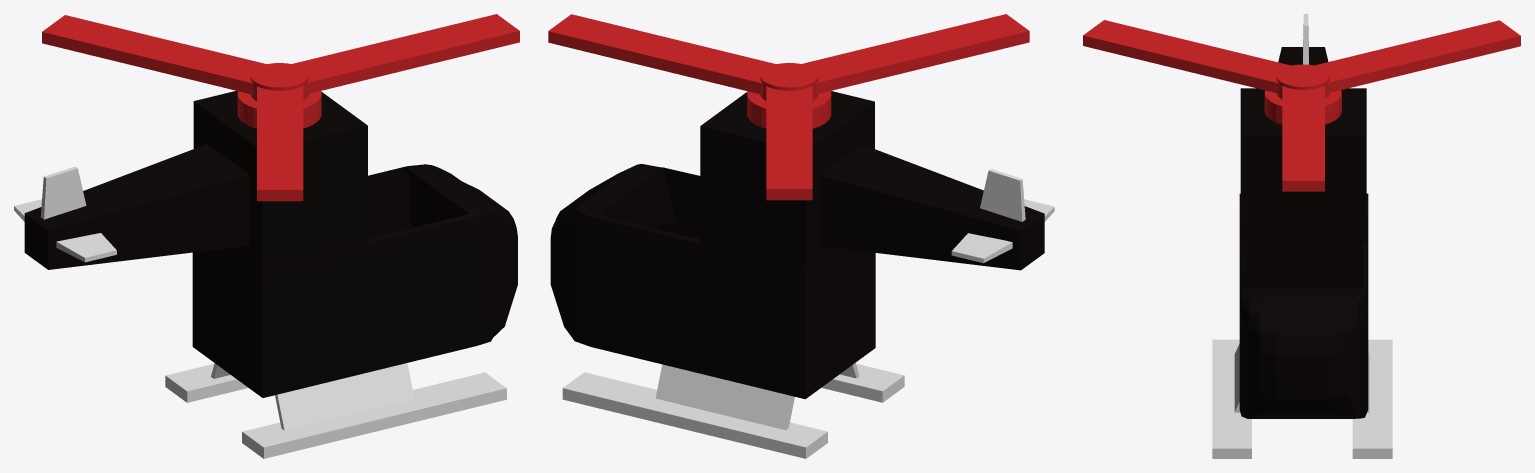
The model's file is helikopter.fbx.
3 views of the same model, side by side, from view 1: azimuth 30°, elevation 25°; view 2: azimuth 150°, elevation 25°; view 3: azimuth 270°, elevation 25° (orthographic). The views are drawn at different scales.
Visible parts, largest first — view 1: botten, svans, ryggen, propellerblad, fot, propellerblad.001, propellerblad.002, fotställning, Cylinder, fot1, Cube.002, Cube; view 2: botten, svans, ryggen, propellerblad, propellerblad.002, fot1, propellerblad.001, fotställning.002, Cylinder, fot, Cube.002, Cube.001; view 3: botten, ryggen, propellerblad.002, propellerblad.001, propellerblad, fot1, fot, Cylinder, svans.
Part boxes in pixels (x1=…): botten: x1=192, y1=164, x2=517, y2=397; svans: x1=24, y1=144, x2=249, y2=269; ryggen: x1=193, y1=90, x2=367, y2=266; propellerblad: x1=292, y1=14, x2=519, y2=94; fot: x1=242, y1=372, x2=506, y2=458; propellerblad.001: x1=42, y1=15, x2=266, y2=94; propellerblad.002: x1=257, y1=86, x2=303, y2=201; fotställning: x1=275, y1=363, x2=414, y2=430; Cylinder: x1=237, y1=63, x2=321, y2=128; fot1: x1=165, y1=364, x2=248, y2=402; Cube.002: x1=40, y1=166, x2=86, y2=219; Cube: x1=56, y1=233, x2=116, y2=262; botten: x1=550, y1=164, x2=875, y2=399; svans: x1=819, y1=144, x2=1044, y2=270; ryggen: x1=700, y1=91, x2=874, y2=267; propellerblad: x1=548, y1=14, x2=775, y2=94; propellerblad.002: x1=802, y1=14, x2=1029, y2=94; fot1: x1=562, y1=372, x2=827, y2=458; propellerblad.001: x1=766, y1=86, x2=812, y2=200; fotställning.002: x1=655, y1=364, x2=794, y2=430; Cylinder: x1=747, y1=63, x2=831, y2=128; fot: x1=821, y1=363, x2=904, y2=402; Cube.002: x1=980, y1=169, x2=1025, y2=221; Cube.001: x1=951, y1=233, x2=1012, y2=263; botten: x1=1239, y1=193, x2=1368, y2=418; ryggen: x1=1240, y1=88, x2=1366, y2=271; propellerblad.002: x1=1083, y1=20, x2=1290, y2=93; propellerblad.001: x1=1314, y1=20, x2=1520, y2=93; propellerblad: x1=1282, y1=85, x2=1324, y2=191; fot1: x1=1352, y1=339, x2=1392, y2=458; fot: x1=1212, y1=339, x2=1251, y2=458; Cylinder: x1=1264, y1=64, x2=1341, y2=124; svans: x1=1278, y1=47, x2=1328, y2=65.
Size of the model in its own units: 777 by 521 by 681.
